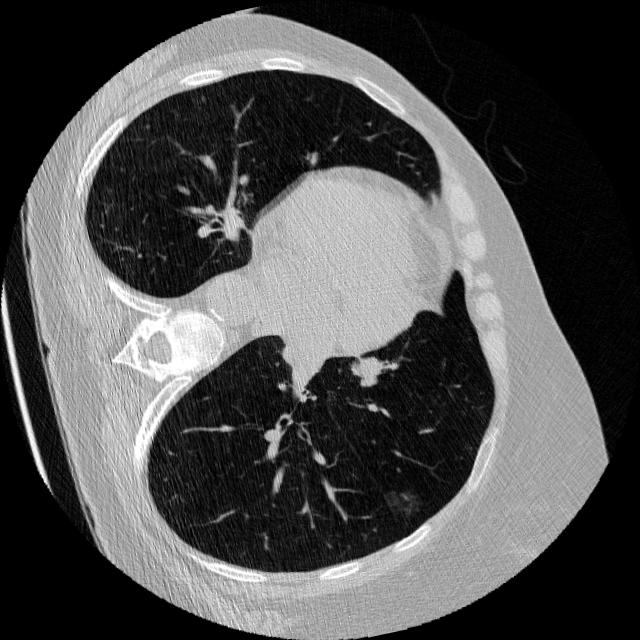nodule: (367, 467, 441, 541)
